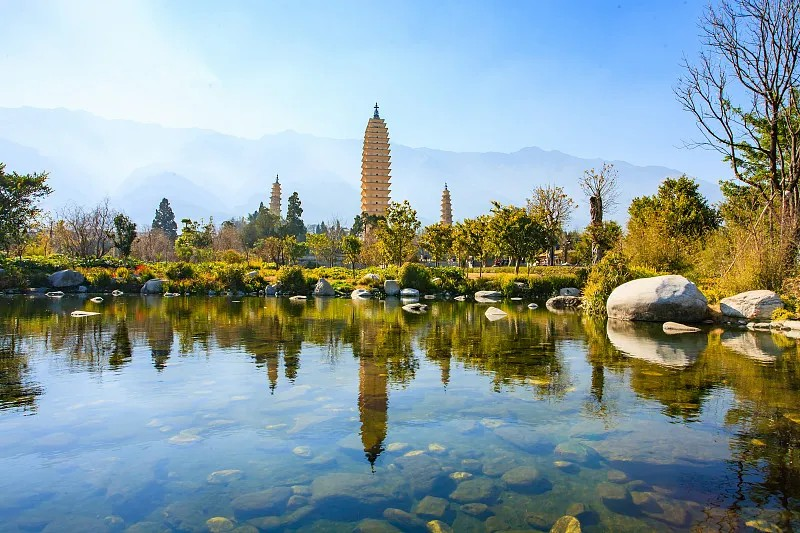ThreePagoda: (361, 103, 391, 216)
